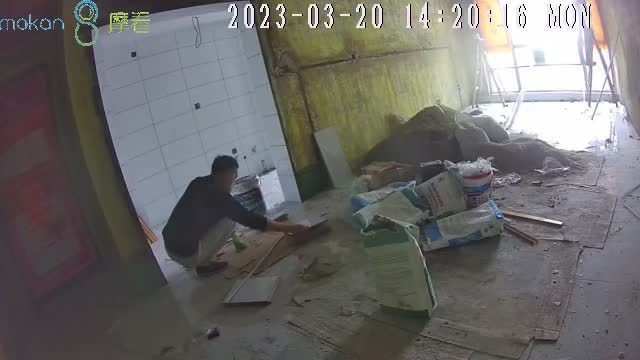people: (162, 156, 305, 277)
window: (471, 2, 611, 95)
